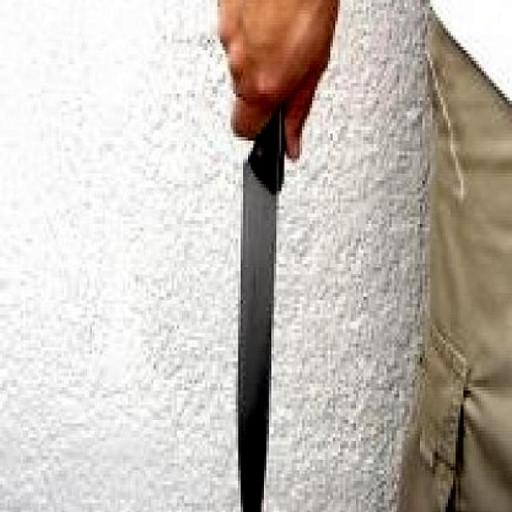knife: (220, 36, 312, 512)
